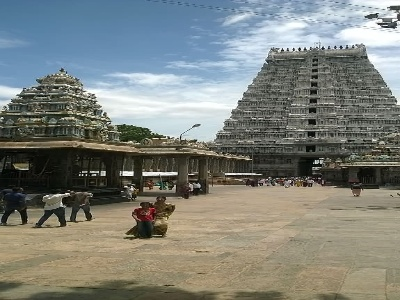gopura: (224, 32, 400, 158)
